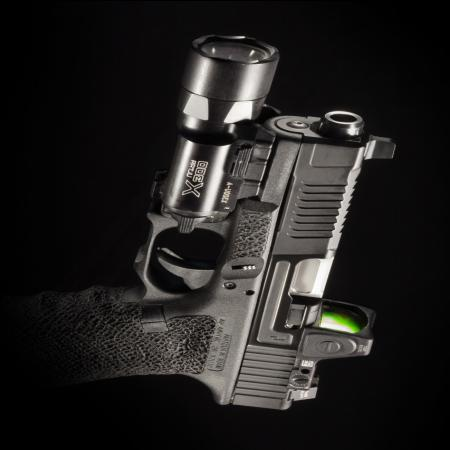Pistol: (1, 30, 419, 412)
